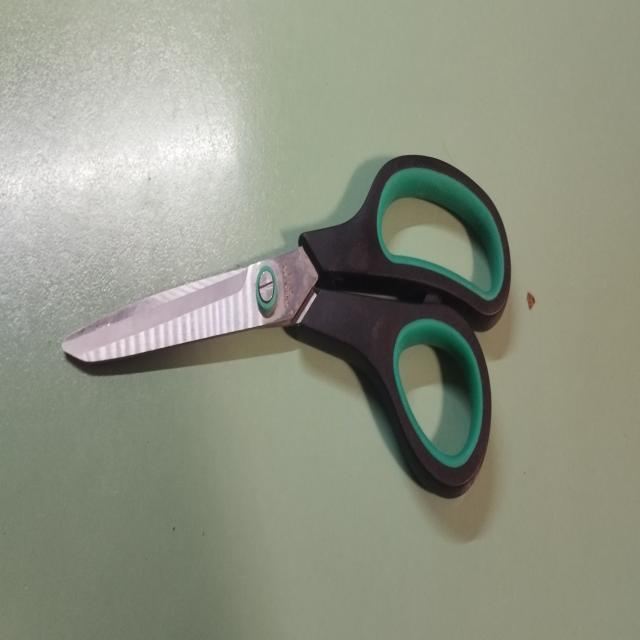tesoura: (58, 134, 516, 506)
